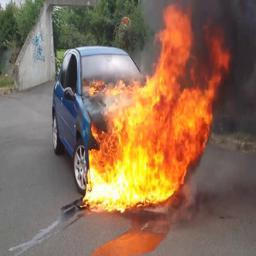fire: (81, 3, 231, 214), (79, 79, 139, 98)
